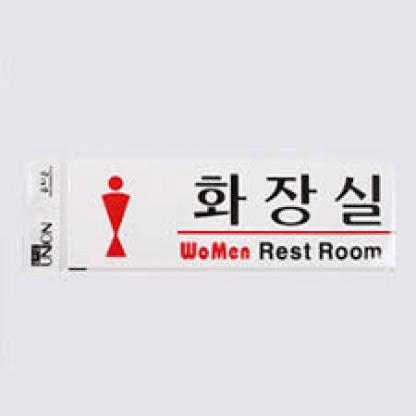toilet: (98, 174, 132, 262)
